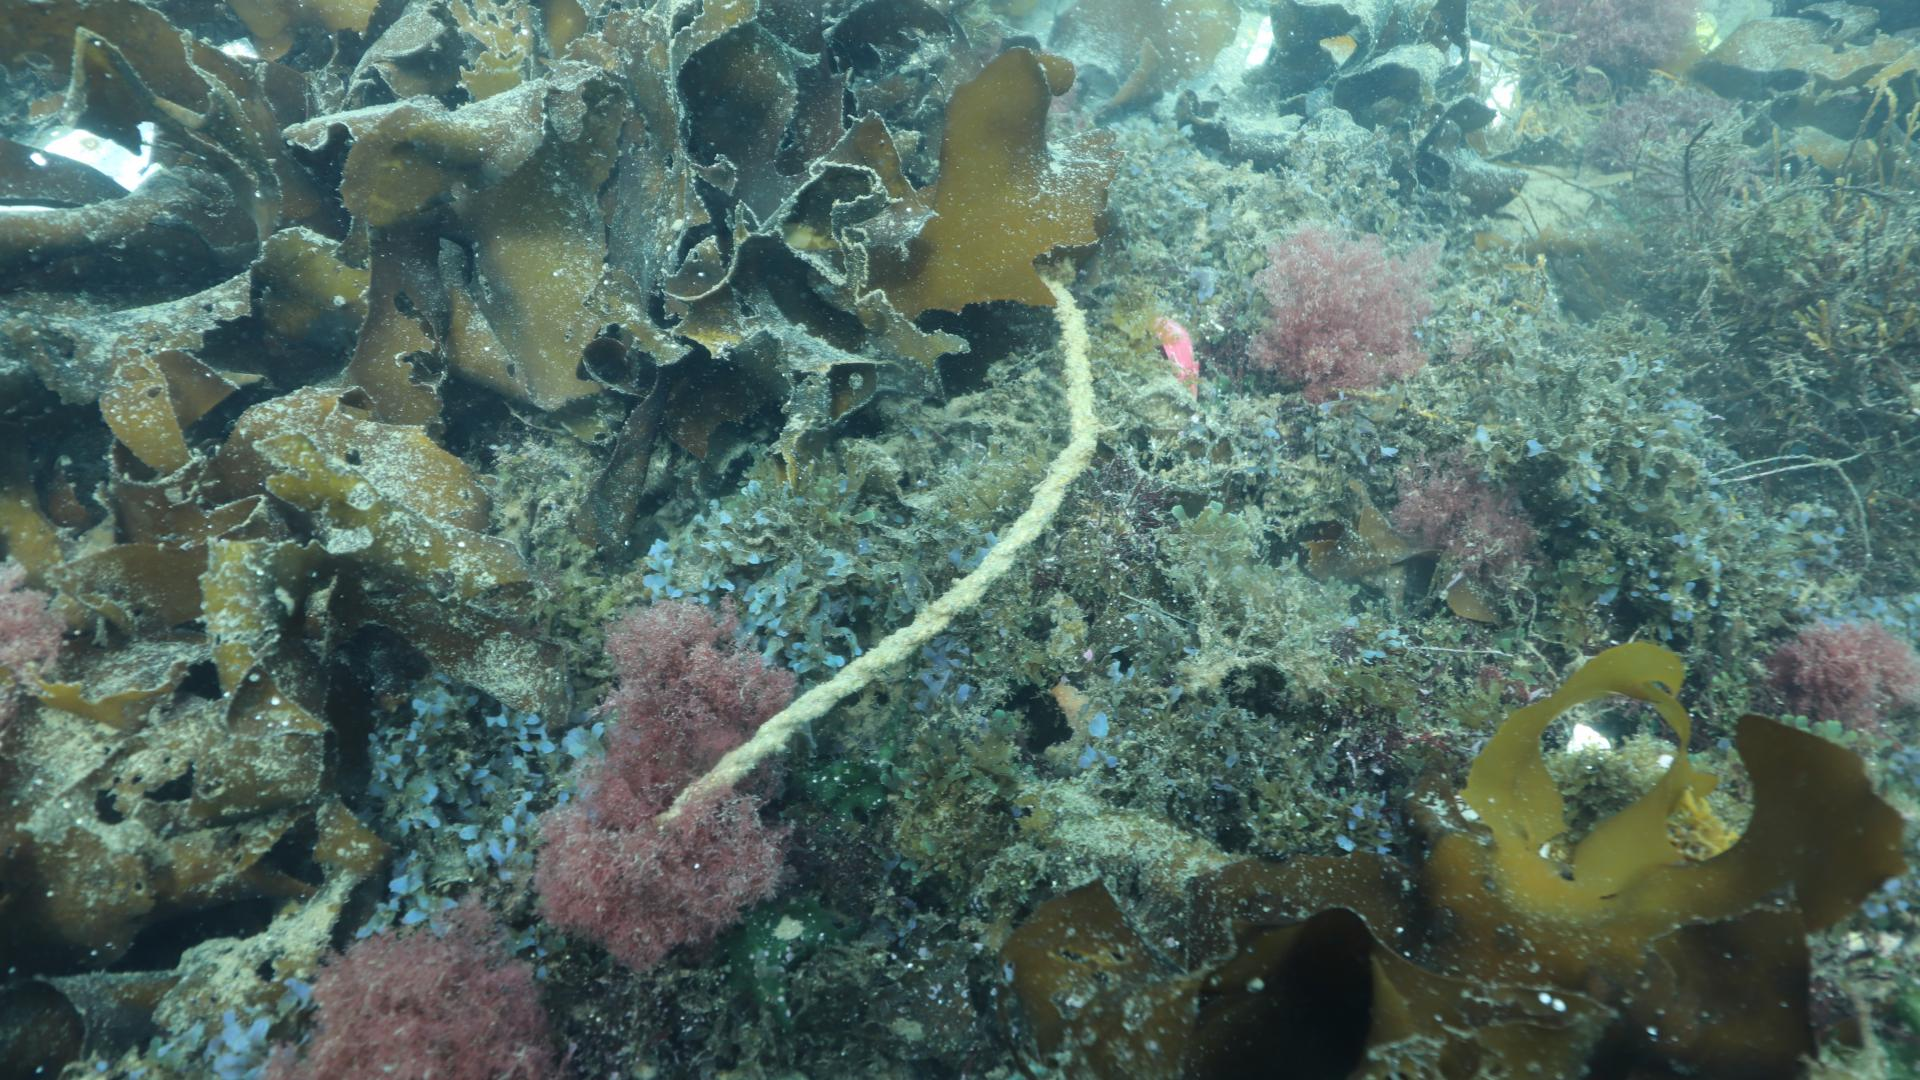rope: (658, 274, 1096, 824)
